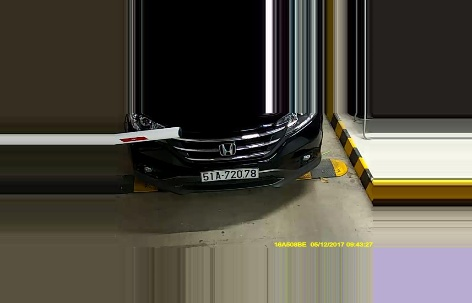plate: (196, 165, 260, 180)
